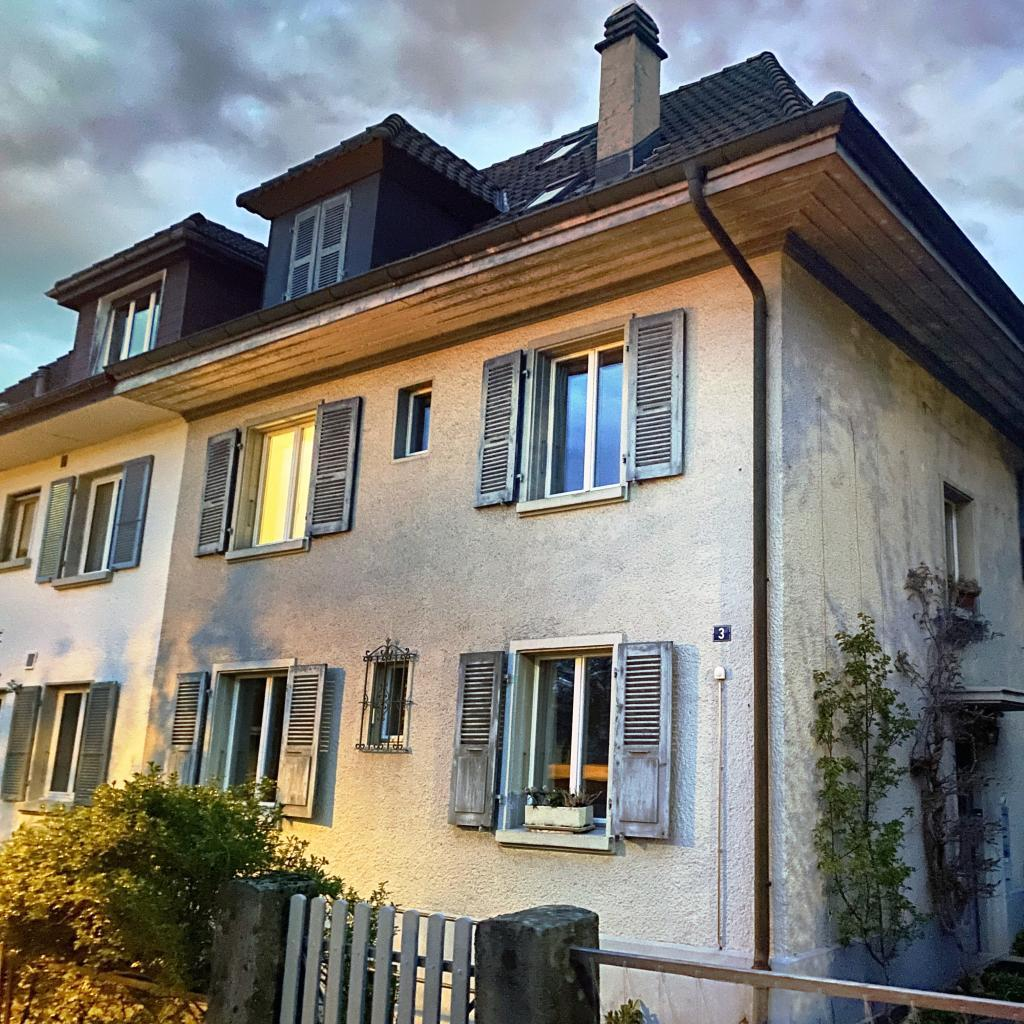facade: (0, 0, 1024, 1024)
fence: (602, 948, 1024, 1022), (280, 893, 473, 1024)
non-building-infrastructure: (205, 870, 317, 1024), (475, 903, 600, 1024)
vegetation: (0, 758, 402, 1024), (808, 560, 1024, 1003), (899, 1006, 1024, 1024), (522, 784, 604, 811), (1009, 928, 1024, 957)
window: (523, 653, 613, 825), (542, 339, 625, 497), (219, 671, 289, 806), (251, 418, 318, 546), (284, 192, 351, 302), (95, 276, 164, 372), (40, 687, 91, 800), (77, 472, 123, 574), (0, 492, 39, 563), (379, 663, 409, 742), (944, 495, 964, 606), (405, 386, 433, 457), (541, 138, 585, 164), (526, 185, 567, 207)
